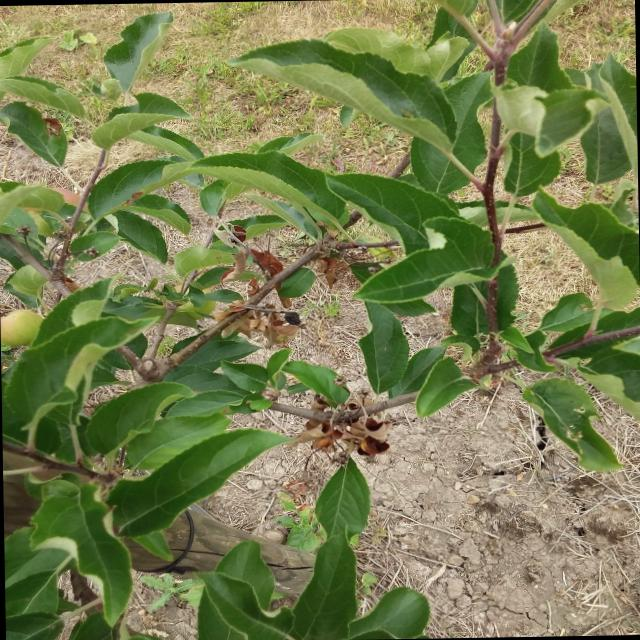-FireBlight-: (300, 392, 393, 457), (226, 293, 306, 344), (224, 226, 283, 274)
